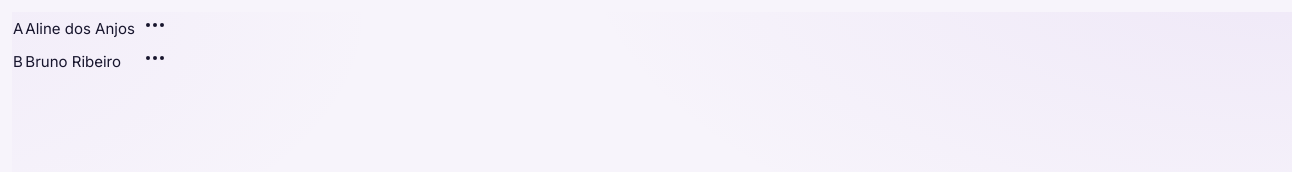
Test: Clique na linha do paciente abre o Sheet › clicar no menu '...' NÃO abre o Sheet
What coordinates should you click on to do the following:
click the button named "Ações de Aline dos Anjos"
I would click on:
 (155, 25)
Its box is [143,13,167,37].
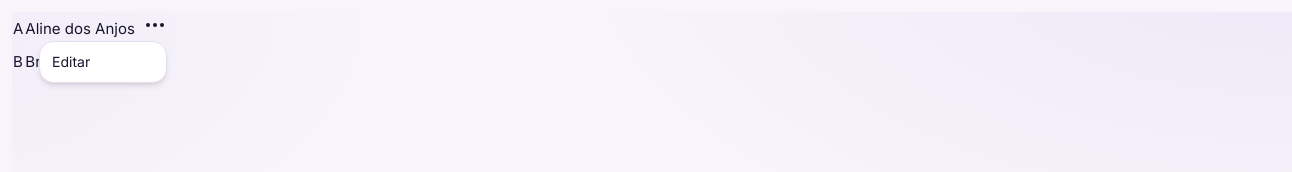
Check: the menu item "Editar" is shown, box [52,53,90,70]
